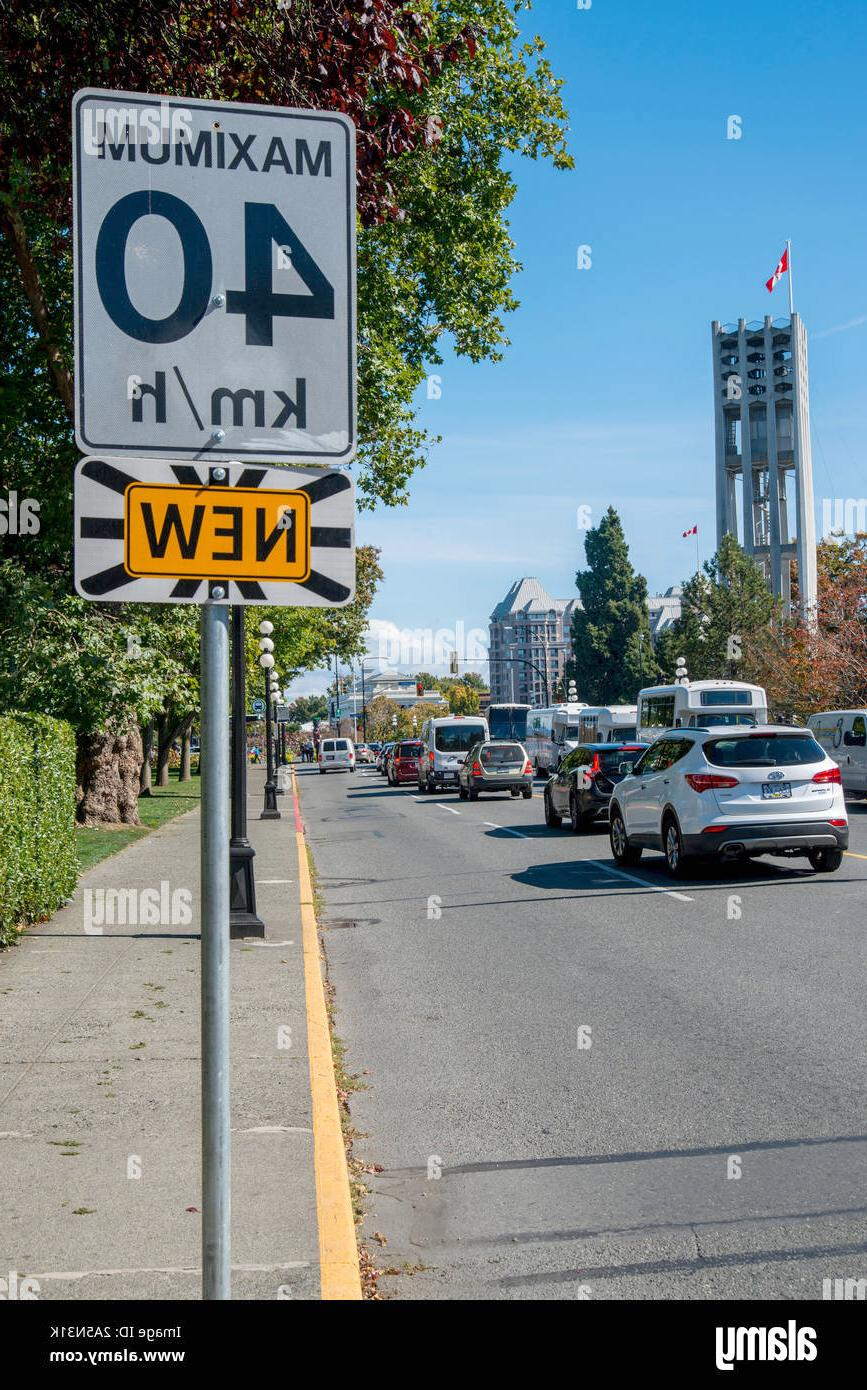speed limit sign: (66, 84, 355, 465)
